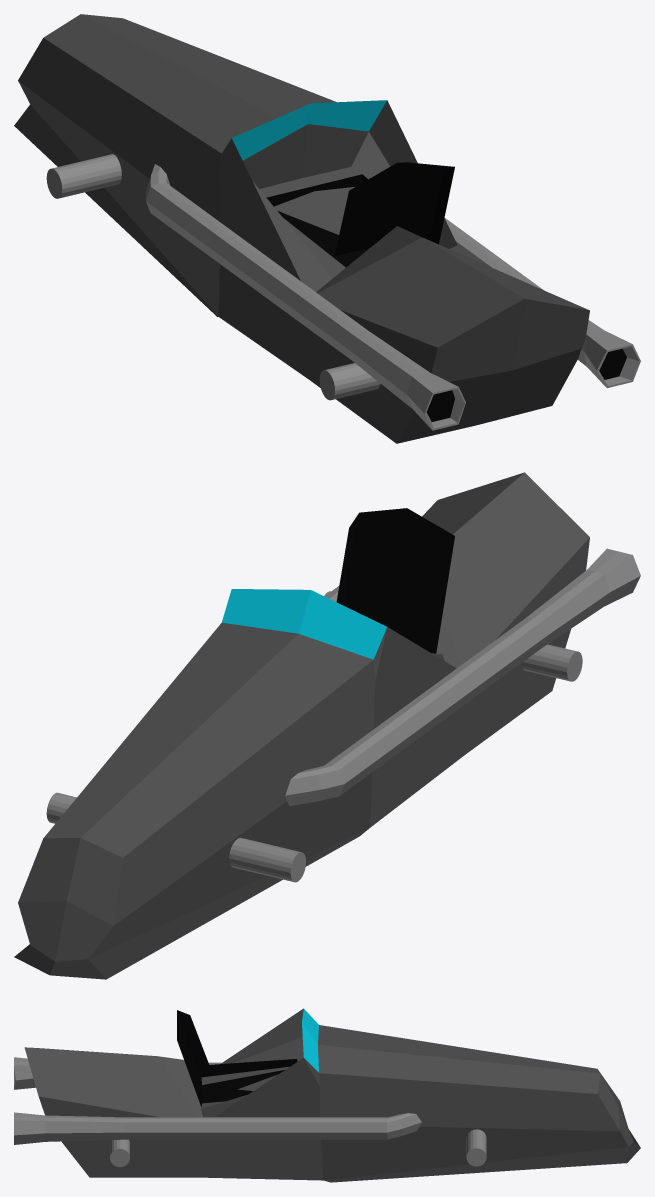
File: Kart.fbx
3 renders of one model, top to bottom at view 1: azimuth 30°, elevation 25°; view 2: azimuth 150°, elevation 25°; view 3: azimuth 270°, elevation 25°, orthographic. The views are drawn at different scales.
Visible parts, largest first — view 1: Cube; view 2: Cube; view 3: Cube.
Boxes of the visible parts, x1=… form: Cube: x1=14, y1=14, x2=640, y2=443; Cube: x1=14, y1=472, x2=640, y2=979; Cube: x1=14, y1=1008, x2=640, y2=1182.
Size of the model in its own units: 750 by 668 by 2535.
